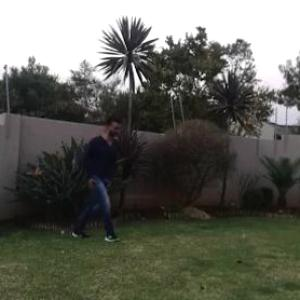follow: (80, 114, 116, 242)
